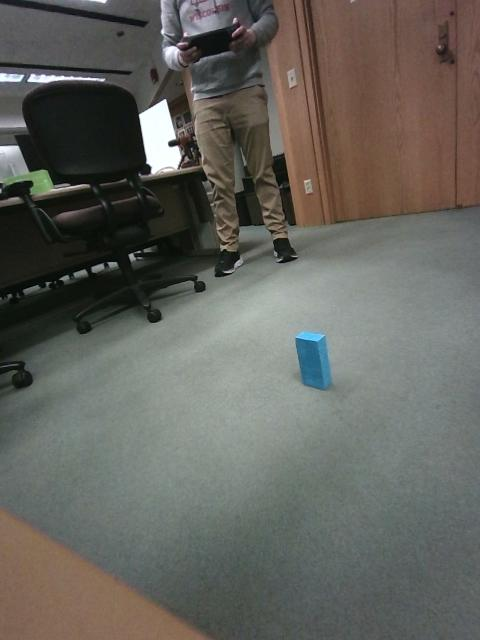block: (350, 301, 412, 344)
